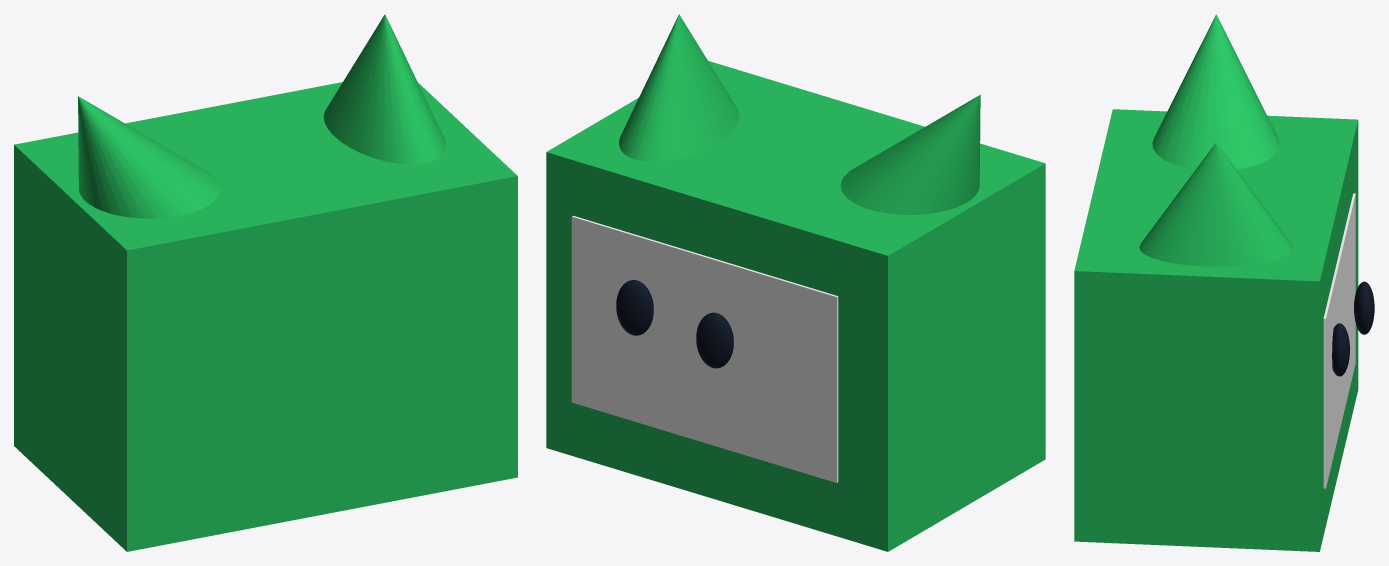
3 views of the same model, side by side, from view 1: azimuth 30°, elevation 25°; view 2: azimuth 150°, elevation 25°; view 3: azimuth 270°, elevation 25° (orthographic). The views are drawn at different scales.
Visible parts, largest first — view 1: Mesh (×3); view 2: Mesh (×6); view 3: Mesh (×6).
Boxes of the visible parts, x1=… form: Mesh (×3): x1=14, y1=14, x2=517, y2=551; Mesh (×6): x1=546, y1=14, x2=1045, y2=551; Mesh (×6): x1=1074, y1=14, x2=1374, y2=551.
Bounding box in the file's own units: 1.65 × 1.68 × 1.22.
